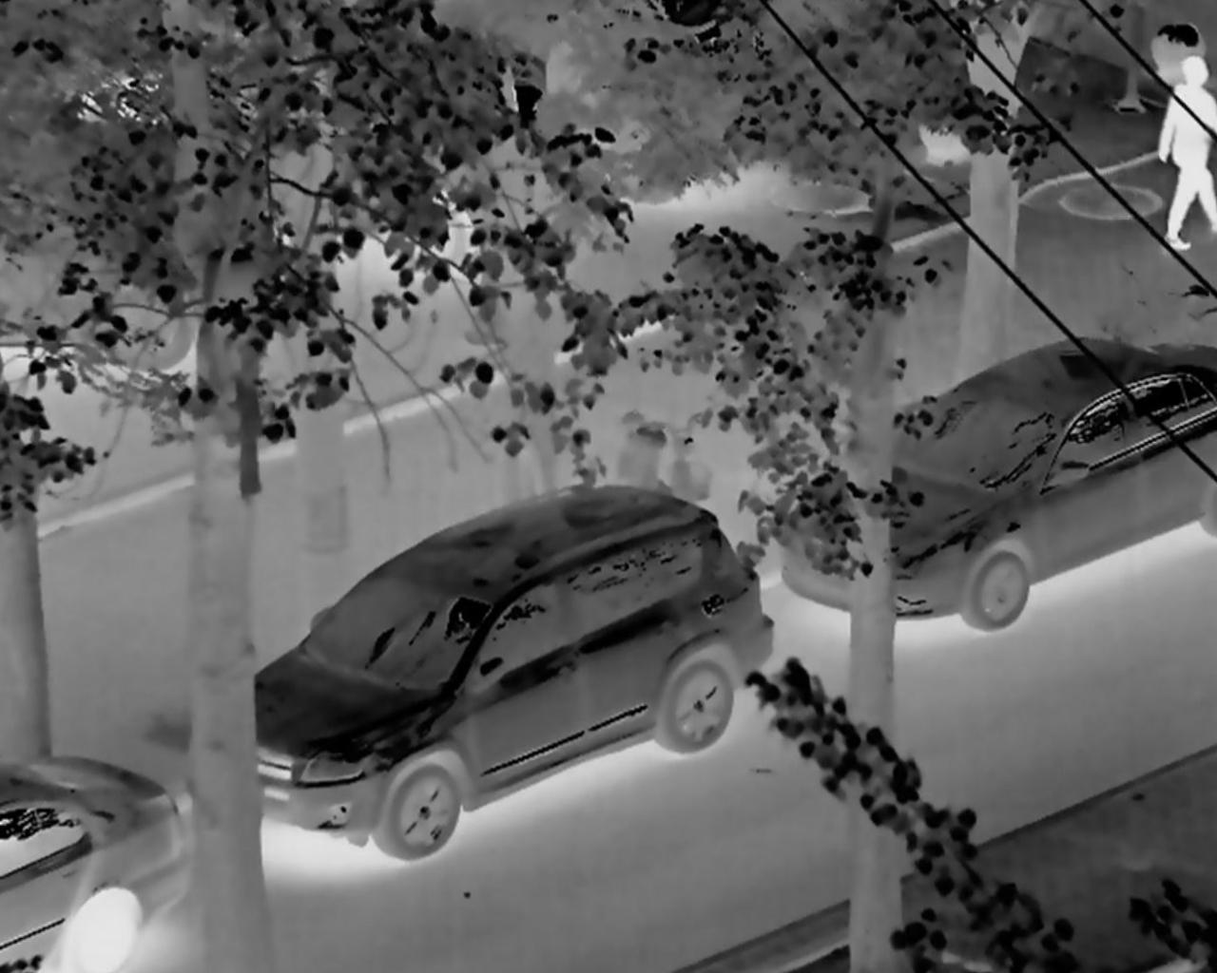person: (1144, 44, 1217, 290)
